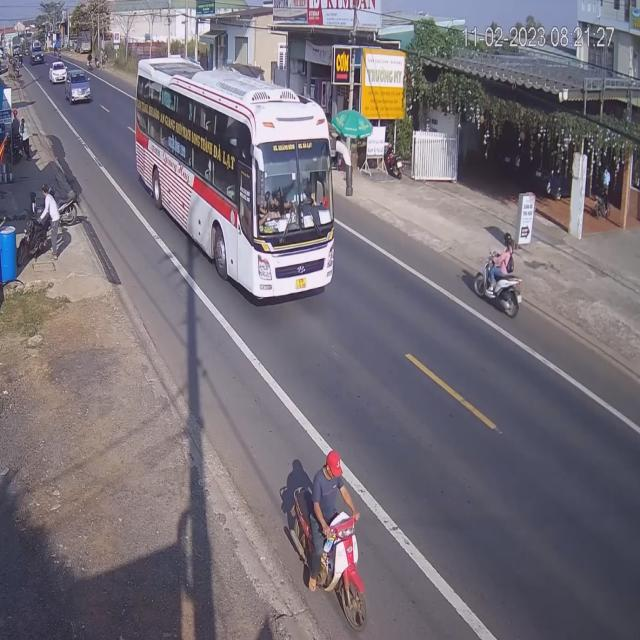bus: (134, 63, 338, 304)
car: (66, 67, 91, 105), (52, 61, 68, 85)
motorbike: (281, 447, 366, 634), (473, 231, 523, 320)
